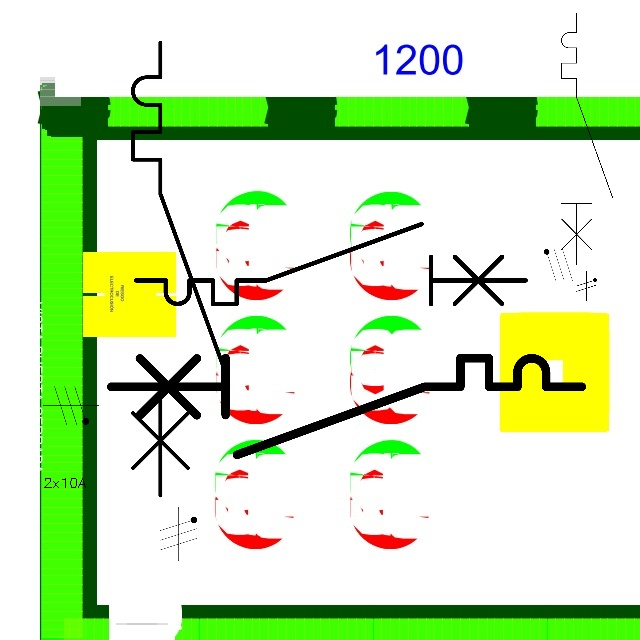interruptor_termomagnetico: (98, 346, 593, 467), (121, 31, 237, 507), (126, 214, 536, 314), (555, 7, 619, 271)
